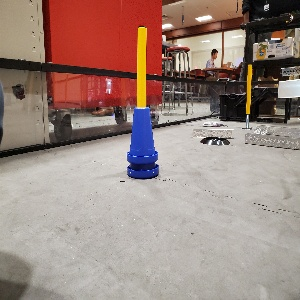Blue_2: (125, 105, 159, 180)
